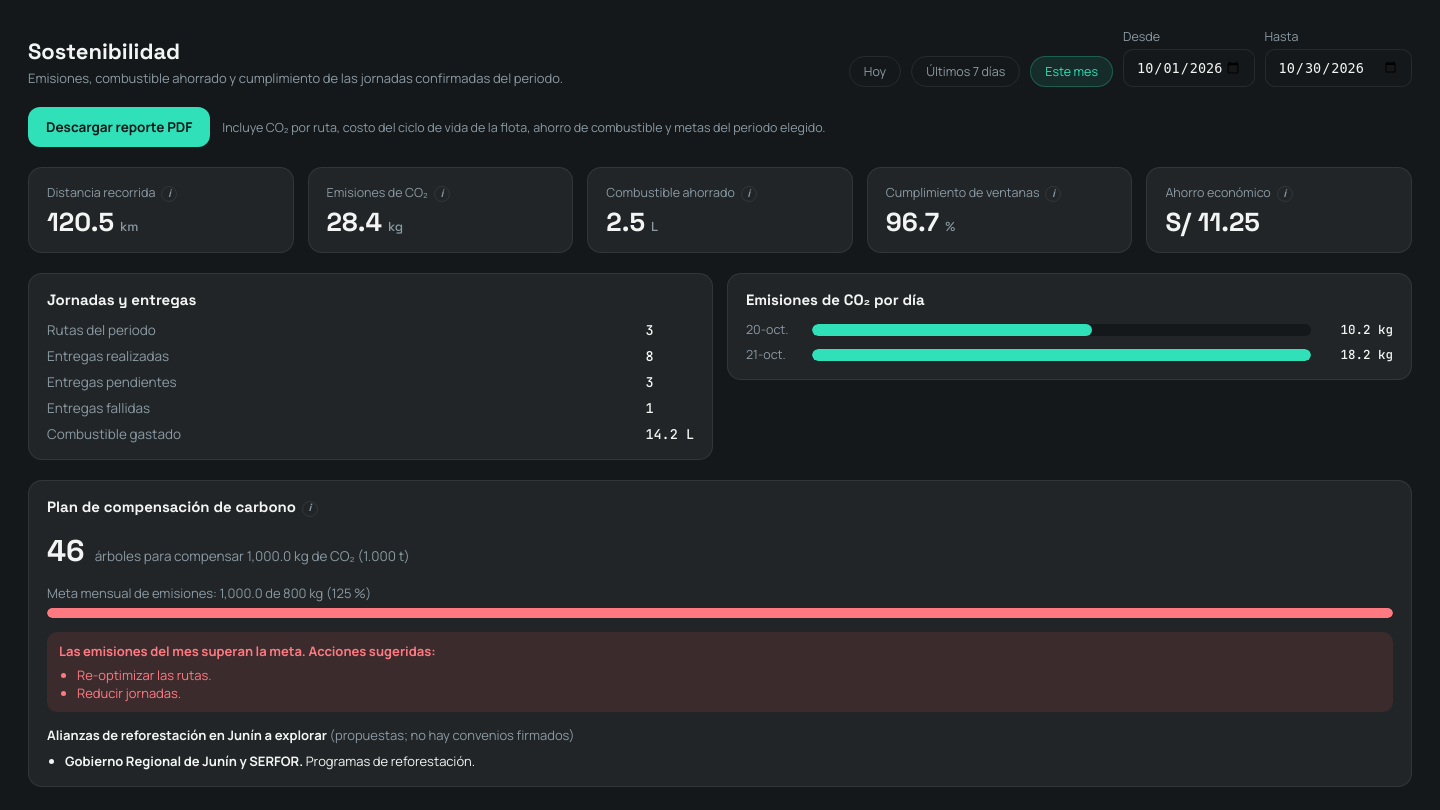
Test: SostenibilidadPage › «Descargar reporte PDF» pide el PDF del periodo y lo descarga
Expected: the text "Distancia recorrida" is shown, [47, 184, 155, 201]
Step 1. Click the button "Descargar reporte PDF" → (119, 127), box [28, 107, 210, 147]
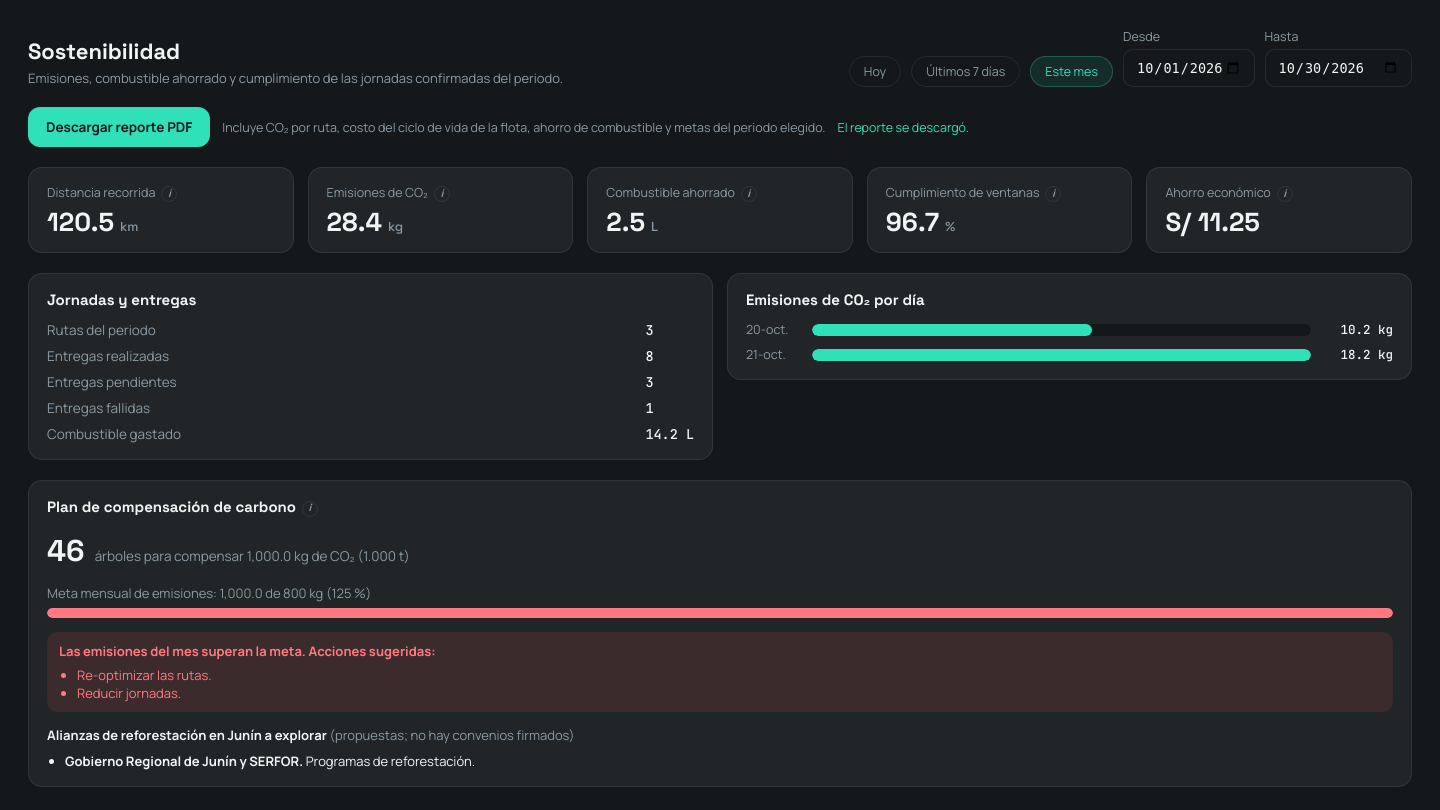
Result: the text "El reporte se descargó." is shown at [838, 118, 969, 136]
